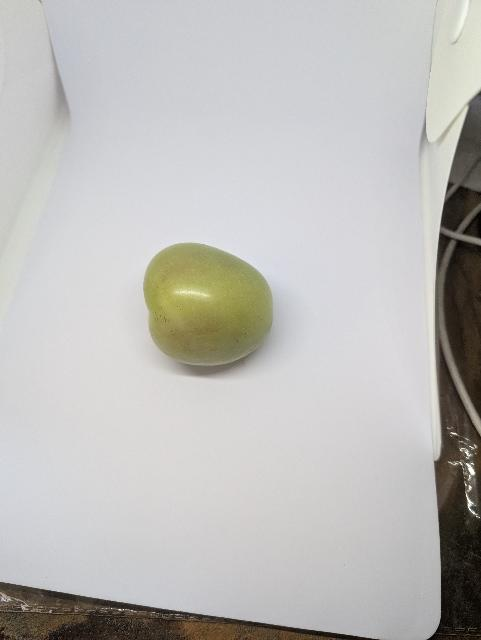green: (133, 232, 287, 374)
